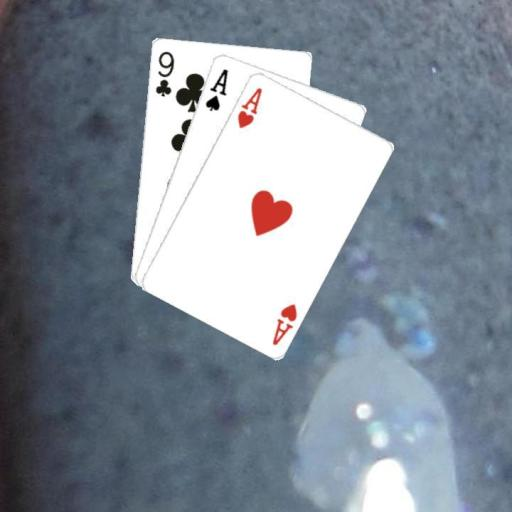9C: (152, 48, 176, 98)
AH: (234, 84, 264, 130), (269, 300, 299, 346)
AS: (202, 65, 230, 112)
